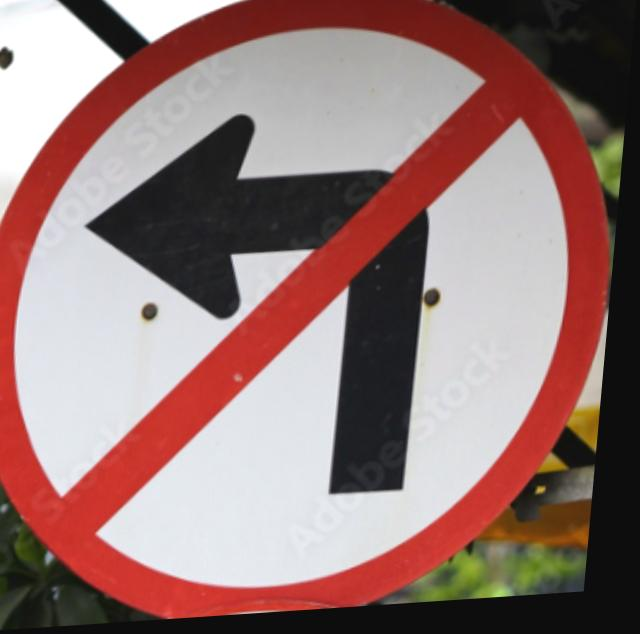not_turn_left: (0, 0, 625, 633)
